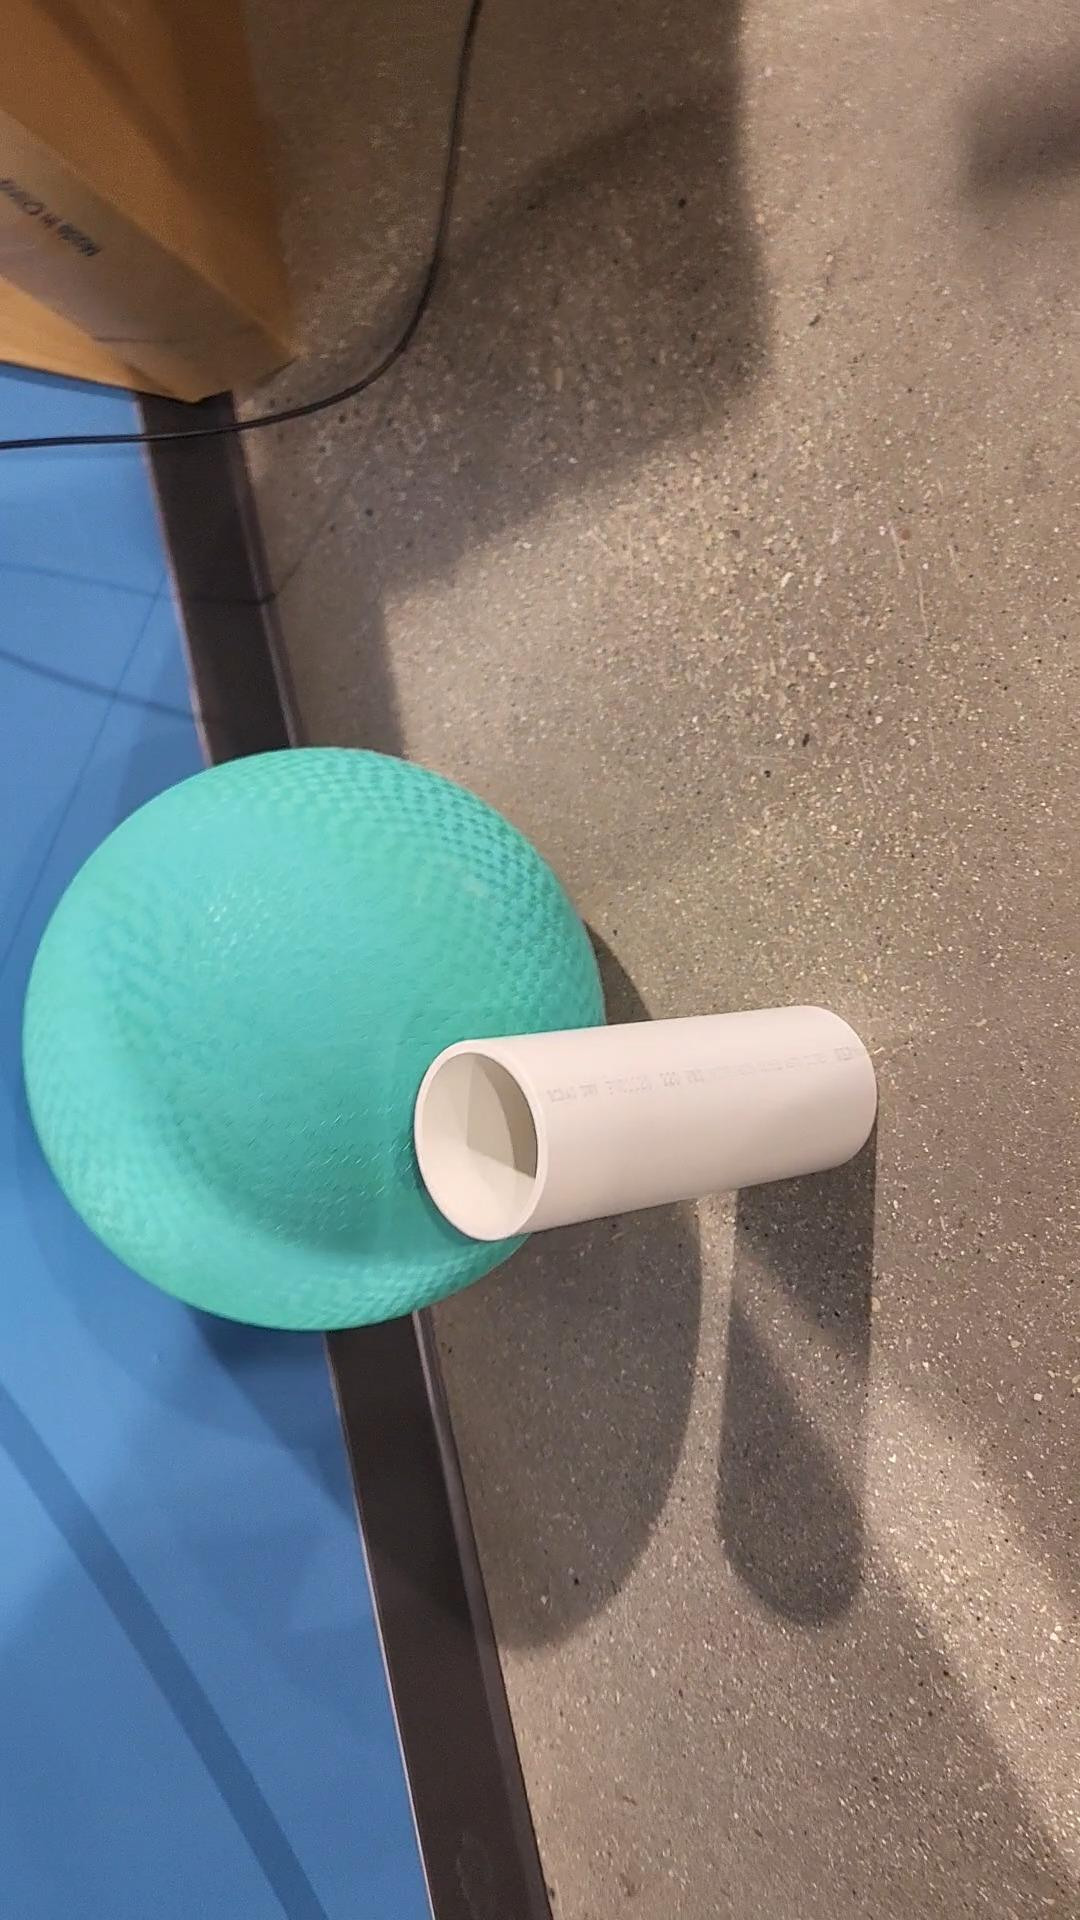algae: (20, 748, 605, 1332)
coral: (415, 1002, 880, 1233)
